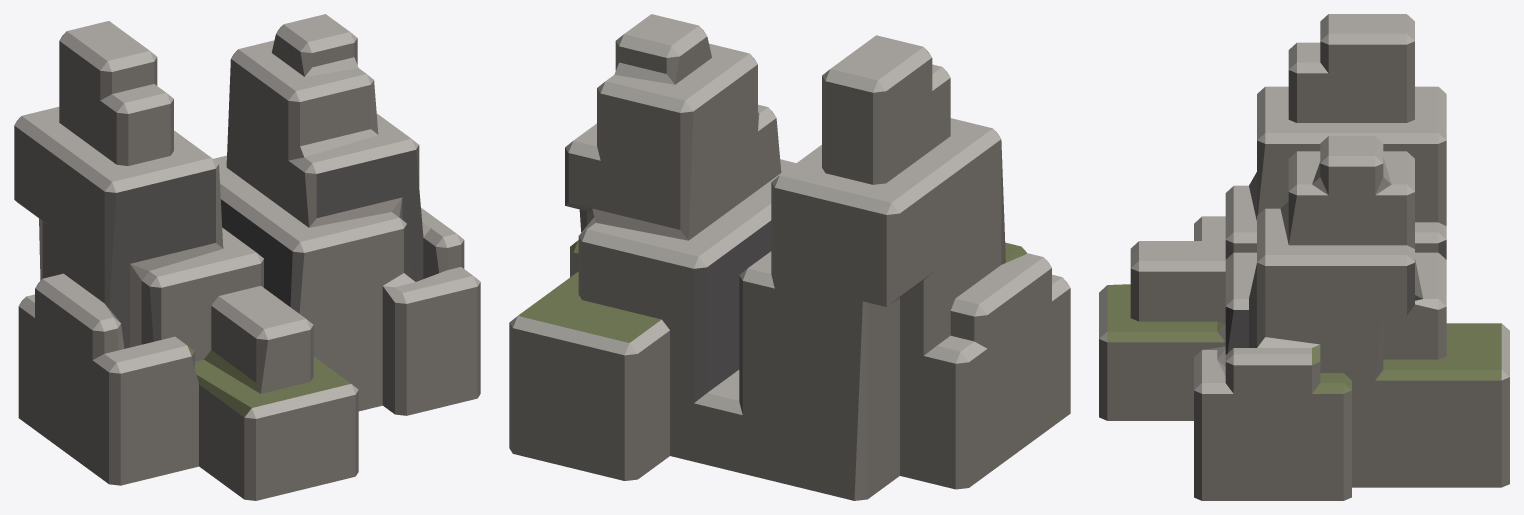
File: rock_stage1_var_1.glb
3 views of the same model, side by side, from view 1: azimuth 30°, elevation 25°; view 2: azimuth 150°, elevation 25°; view 3: azimuth 270°, elevation 25° (orthographic). The views are drawn at different scales.
Visible parts, largest first — view 1: destructible_rock_stage_1_var_2_S, destructible_rock_stage_1_var_2_L, destructible_rock_stage_1_var_2_D, destructible_rock_stage_1_var_2_M; view 2: destructible_rock_stage_1_var_2_S, destructible_rock_stage_1_var_2_L, destructible_rock_stage_1_var_2_D, destructible_rock_stage_1_var_2_M; view 3: destructible_rock_stage_1_var_2_S, destructible_rock_stage_1_var_2_L, destructible_rock_stage_1_var_2_M, destructible_rock_stage_1_var_2_D.
Boxes of the visible parts, box(x1,y1,x2,y2) form: destructible_rock_stage_1_var_2_S: box(14, 34, 480, 500); destructible_rock_stage_1_var_2_L: box(14, 14, 480, 418); destructible_rock_stage_1_var_2_D: box(16, 150, 423, 348); destructible_rock_stage_1_var_2_M: box(187, 346, 350, 417); destructible_rock_stage_1_var_2_S: box(509, 37, 1070, 500); destructible_rock_stage_1_var_2_L: box(509, 14, 1070, 414); destructible_rock_stage_1_var_2_D: box(565, 148, 931, 413); destructible_rock_stage_1_var_2_M: box(518, 240, 1026, 342); destructible_rock_stage_1_var_2_S: box(1099, 41, 1509, 500); destructible_rock_stage_1_var_2_L: box(1099, 14, 1509, 393); destructible_rock_stage_1_var_2_M: box(1107, 284, 1501, 393); destructible_rock_stage_1_var_2_D: box(1225, 240, 1446, 354).
Bounding box in the file's own units: 1.95 × 1.8 × 1.95.
